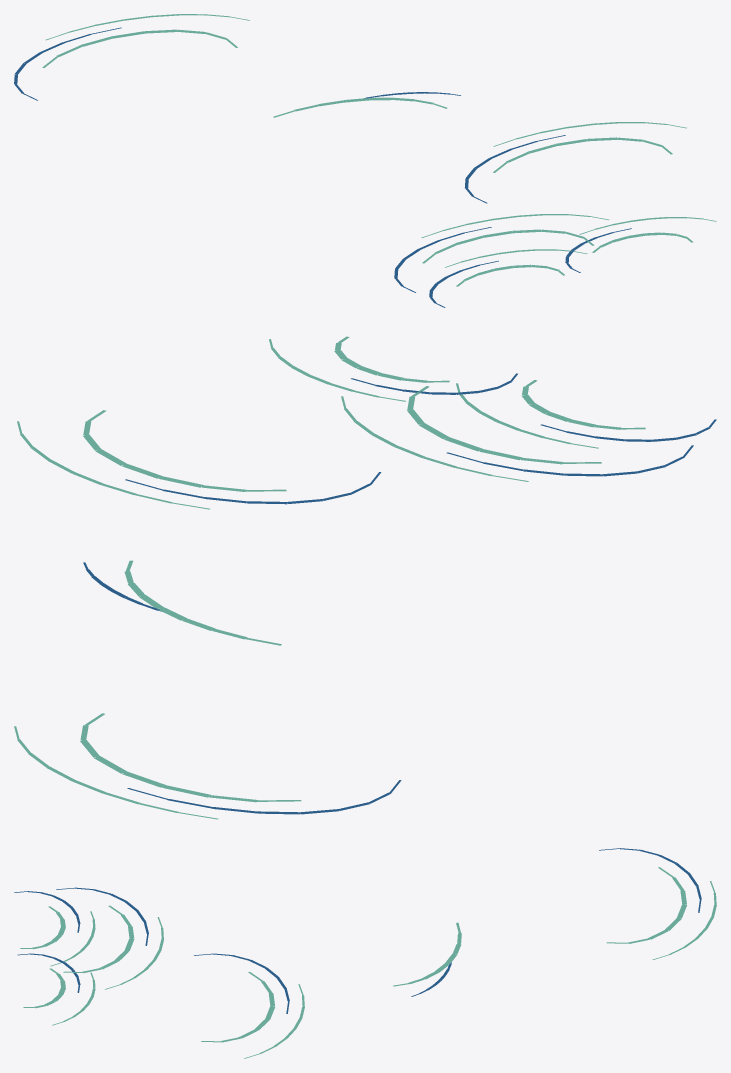
Rendered from PoolWakes.obj.
3 renders of one model, top to bottom at view 1: azimuth 30°, elevation 25°; view 2: azimuth 150°, elevation 25°; view 3: azimuth 270°, elevation 25°, orthographic. The views are drawn at different scales.
Parts seen in each view (by area): view 1: PoolWakes; view 2: PoolWakes; view 3: PoolWakes.
Part boxes in pixels (box(x1,y1,x2,y2)): PoolWakes: box(14, 14, 716, 307); PoolWakes: box(14, 336, 716, 819); PoolWakes: box(14, 848, 716, 1058).
Bounding box in the file's own units: 3.68 × 0 × 5.19.
1 material, 1 textured.
